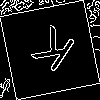K: (25, 25, 78, 81)
